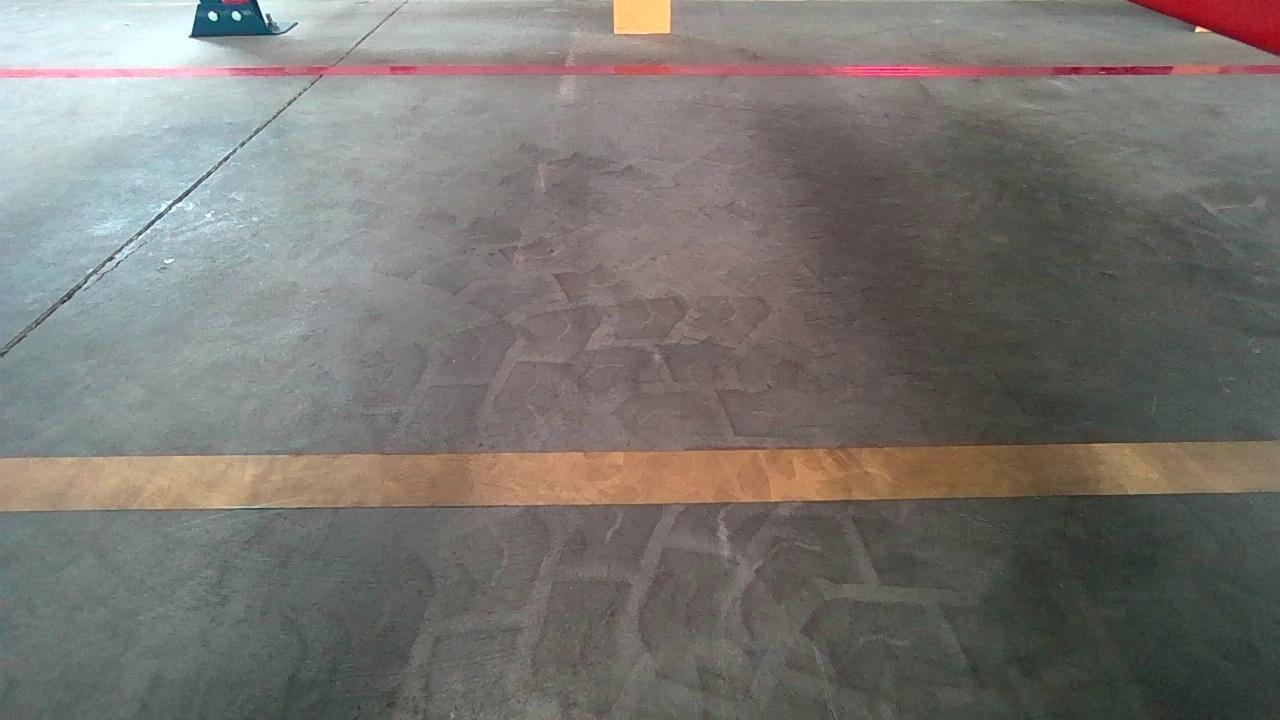red_line: (9, 58, 1266, 88)
